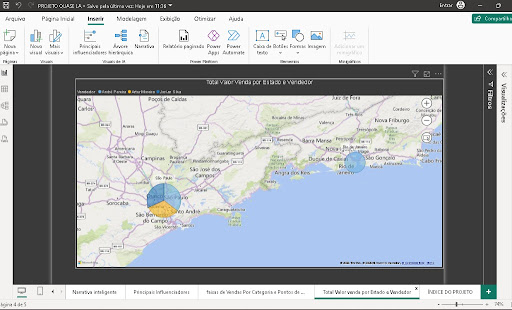

The dashboard page shown, as its layout file describes it:
{"tool":"powerbi","page":{"name":"Total Valor   venda por Estado e Vendedor ","canvas":[1280,720],"ordinal":4},"visuals":[{"type":"map","fields":{"Category":["Vendas.Estado"],"Series":["Vendas.Vendedor"],"Size":["Sum(Vendas.ValorVenda)"]},"box":[75.8,47,1204.2,620.3],"z":0}]}

Visuals, with their boxes on the page's 1280x720 design canvas (x1, y1, x2, y2). These are canvas units, not pixel positions in the 512x310 screenshot, which may show the page scaled, cropped or inside an application window:
map - Vendas.Estado x Vendas.Vendedor: <box>76,47,1280,667</box>
